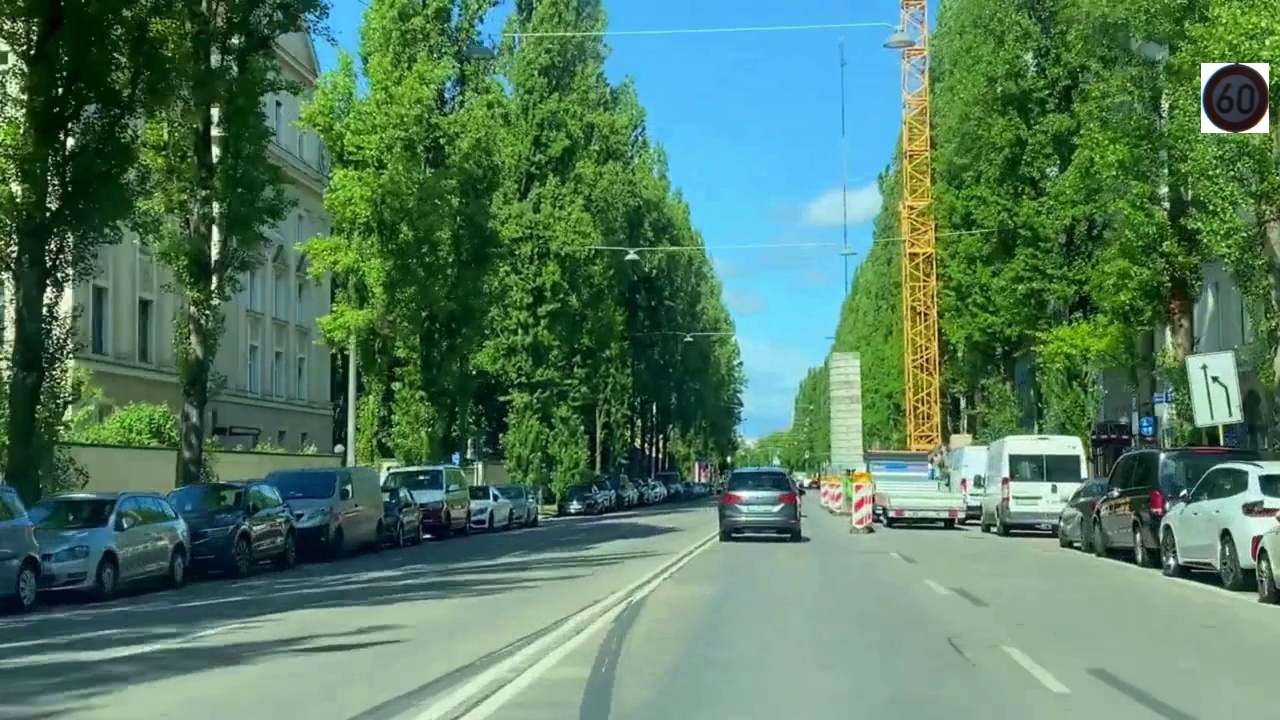Speed 60: (1201, 63, 1269, 133)
